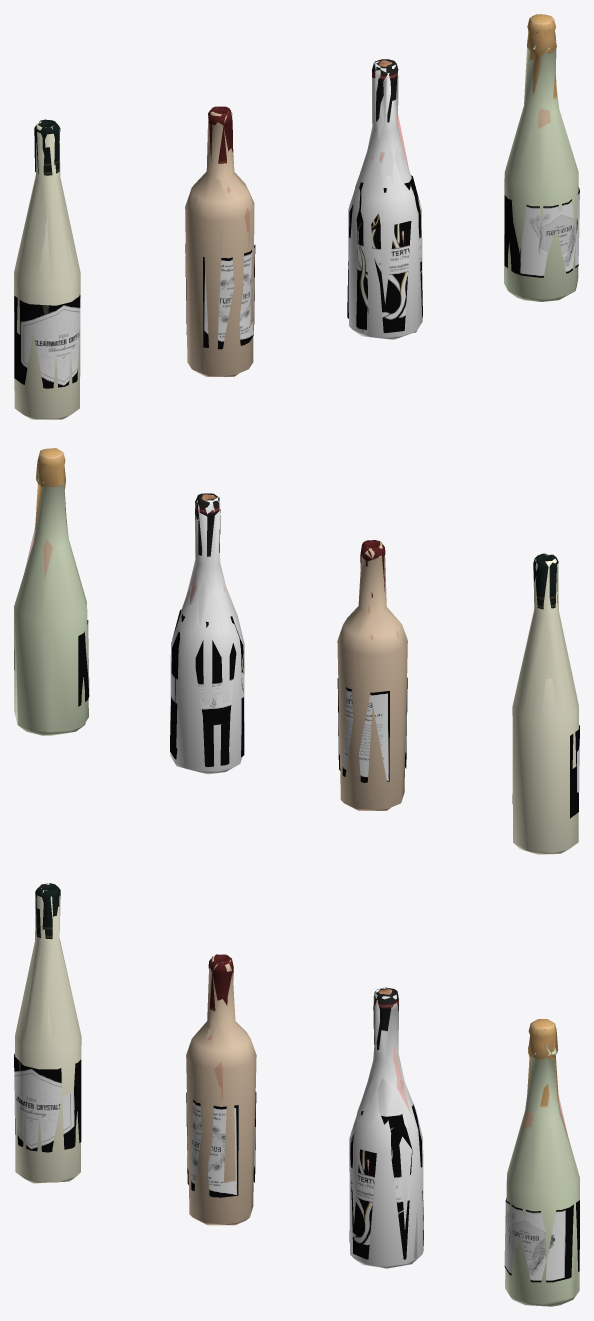
Rendered from wine_bottles_01.glb.
3 views of the same model, one above another, from view 1: azimuth 30°, elevation 25°; view 2: azimuth 150°, elevation 25°; view 3: azimuth 330°, elevation 25° (orthographic).
Parts seen in each view (by area): view 1: wine_bottles_01_bordeaux, wine_bottles_01_alsace, wine_bottles_01_burgundy, wine_bottles_01_champagne; view 2: wine_bottles_01_bordeaux, wine_bottles_01_burgundy, wine_bottles_01_alsace, wine_bottles_01_champagne; view 3: wine_bottles_01_bordeaux, wine_bottles_01_alsace, wine_bottles_01_champagne, wine_bottles_01_burgundy.
Boxes of the visible parts, x1,y1,x2,y2 form: wine_bottles_01_bordeaux: (14, 14, 578, 419); wine_bottles_01_alsace: (14, 219, 80, 388); wine_bottles_01_burgundy: (347, 116, 422, 333); wine_bottles_01_champagne: (504, 187, 579, 277); wine_bottles_01_bordeaux: (14, 448, 578, 854); wine_bottles_01_burgundy: (170, 575, 244, 766); wine_bottles_01_alsace: (512, 679, 579, 852); wine_bottles_01_champagne: (14, 620, 89, 706); wine_bottles_01_bordeaux: (15, 883, 579, 1306); wine_bottles_01_alsace: (14, 983, 81, 1182); wine_bottles_01_champagne: (504, 1198, 579, 1282); wine_bottles_01_burgundy: (349, 1047, 423, 1259).
Bounding box in the file's own units: 0.6747 × 0.3314 × 0.0796.
9 materials, 6 textured.
